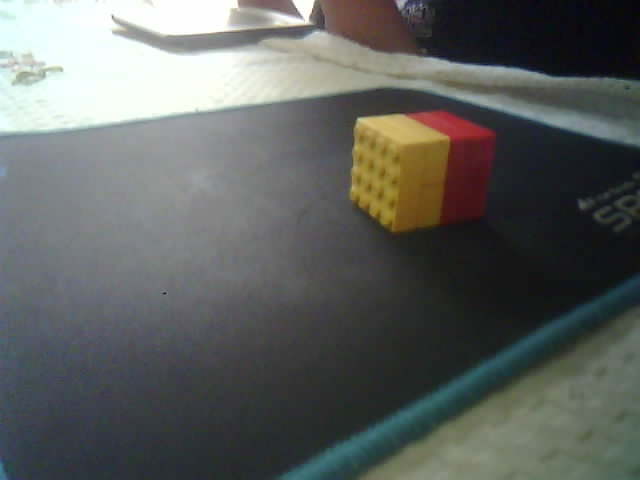lego: (346, 109, 497, 235)
